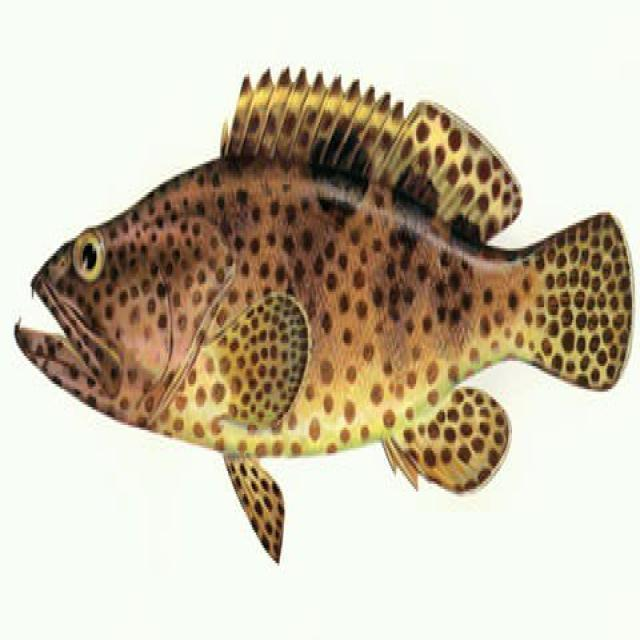ikan: (14, 61, 634, 564)
